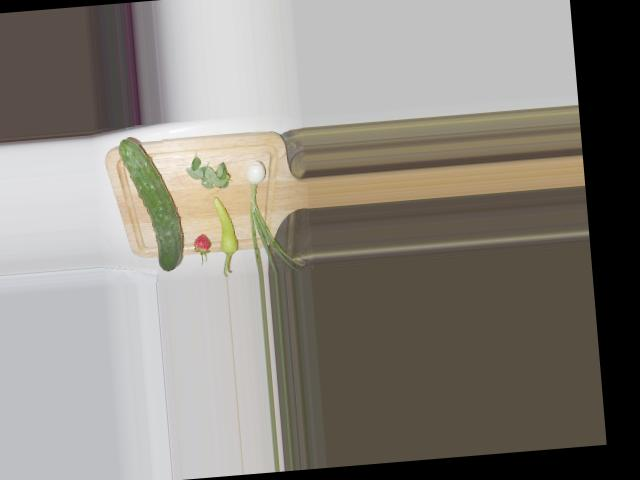cucumber: (117, 134, 184, 273)
